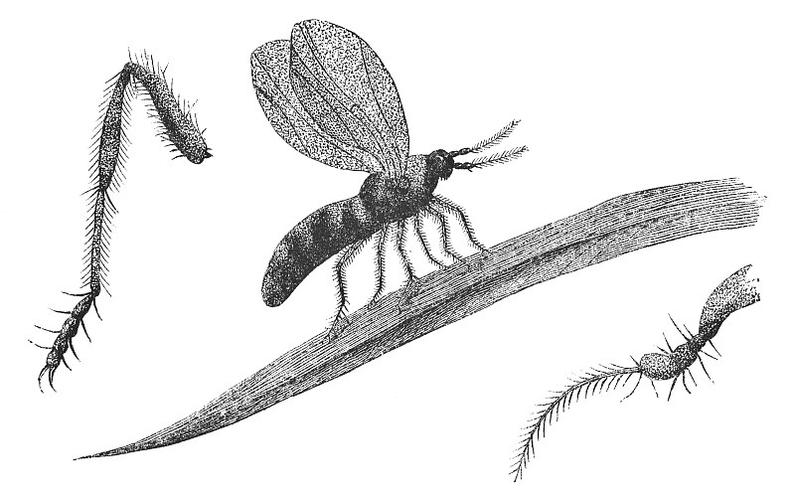Cecidomyiidae: (249, 13, 523, 329)
